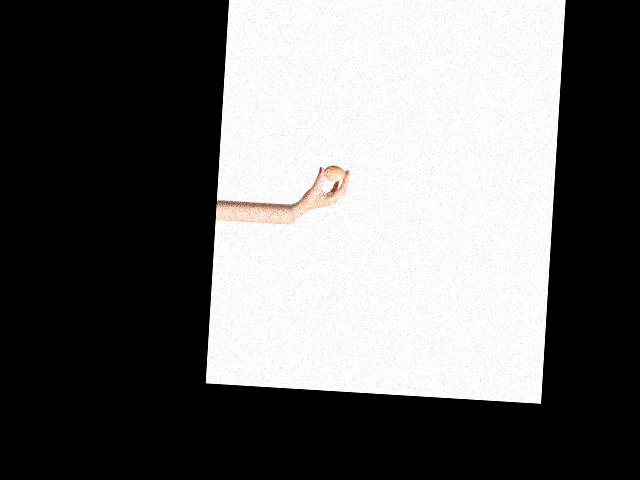egg: (323, 165, 345, 182)
